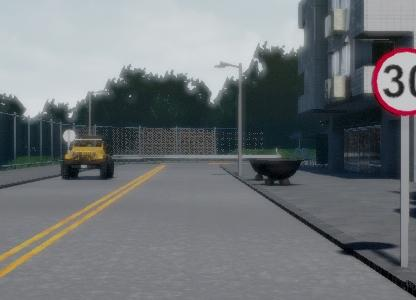Speed_30: (369, 46, 416, 118)
